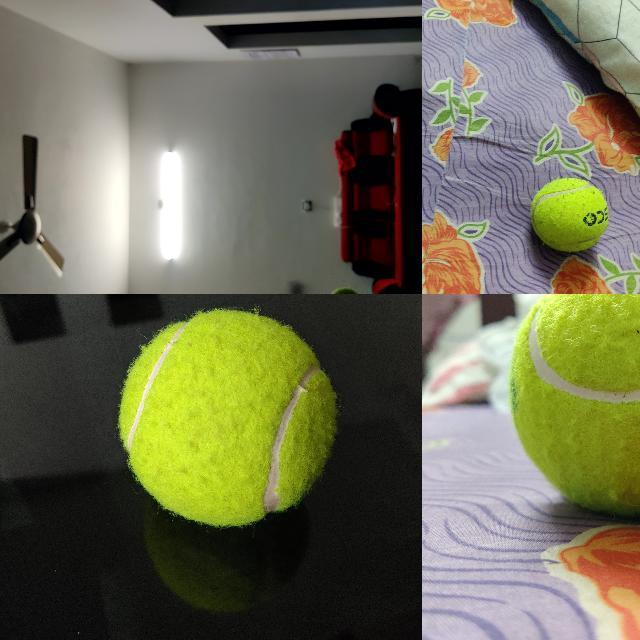tennis-ball: (116, 306, 337, 527), (508, 294, 639, 515), (530, 178, 609, 253)
